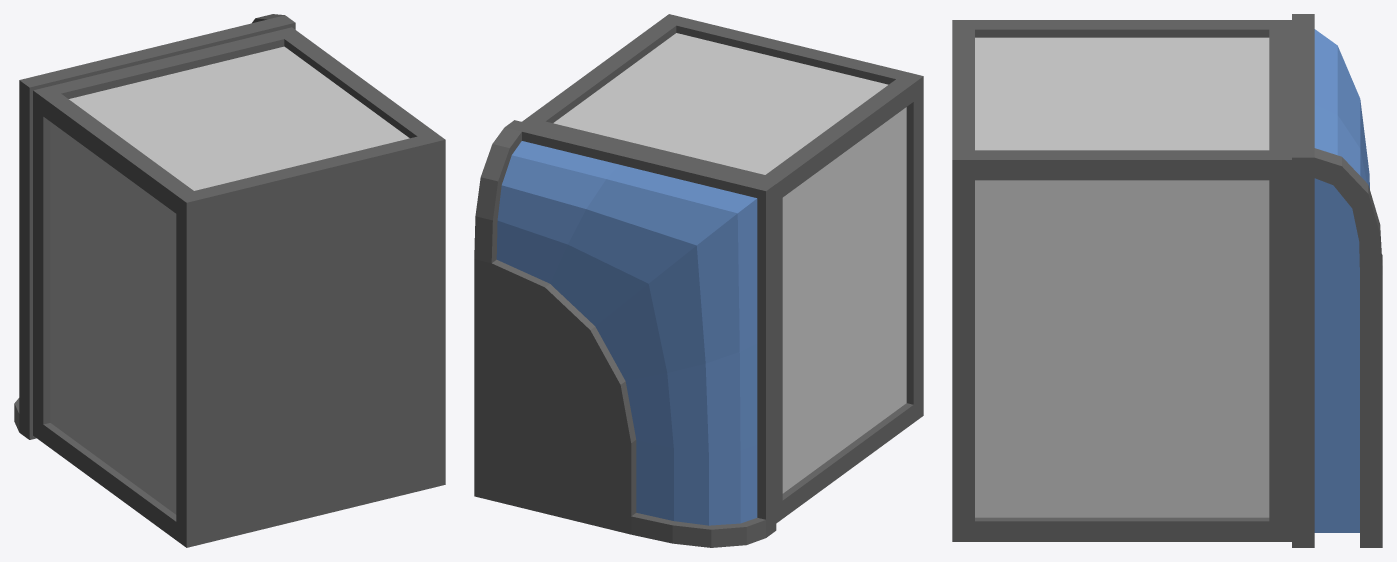
The model's file is container2.fbx.
The picture shows the model from 3 angles, left to right: view 1: azimuth 30°, elevation 25°; view 2: azimuth 150°, elevation 25°; view 3: azimuth 270°, elevation 25°; orthographic projection. The views are drawn at different scales.
Visible parts, largest first — view 1: Box, Top; view 2: Top, Box; view 3: Box, Top.
Part boxes in pixels (bbox=[...]): Box: bbox=[33, 27, 445, 547]; Top: bbox=[14, 14, 295, 439]; Top: bbox=[474, 120, 776, 547]; Box: bbox=[522, 14, 923, 523]; Box: bbox=[952, 20, 1291, 541]; Top: bbox=[1292, 14, 1382, 547].
Bounding box in the file's own units: 0.75 × 0.95 × 0.95.
